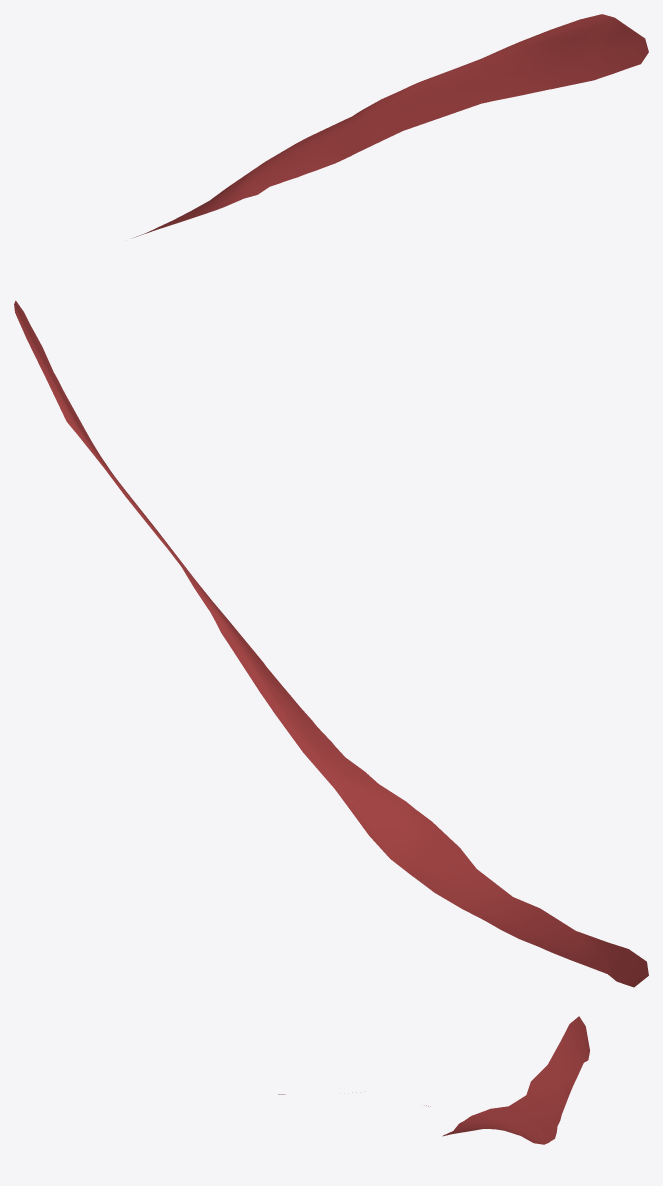
File: descending-part-of-trapezius-muscle-ol.glb
The picture shows the model from 3 angles, top to bottom: view 1: azimuth 30°, elevation 25°; view 2: azimuth 150°, elevation 25°; view 3: azimuth 270°, elevation 25°; orthographic projection. The views are drawn at different scales.
Parts seen in each view (by area): view 1: Descending part of trapezius muscle.ol; view 2: Descending part of trapezius muscle.ol; view 3: Descending part of trapezius muscle.ol.
Part boxes in pixels (x1,y1,x2,y2): Descending part of trapezius muscle.ol: [133, 14, 648, 237]; Descending part of trapezius muscle.ol: [14, 300, 648, 987]; Descending part of trapezius muscle.ol: [278, 1016, 589, 1144].
Bounding box in the file's own units: 0.0711 × 0.029 × 0.0314.
